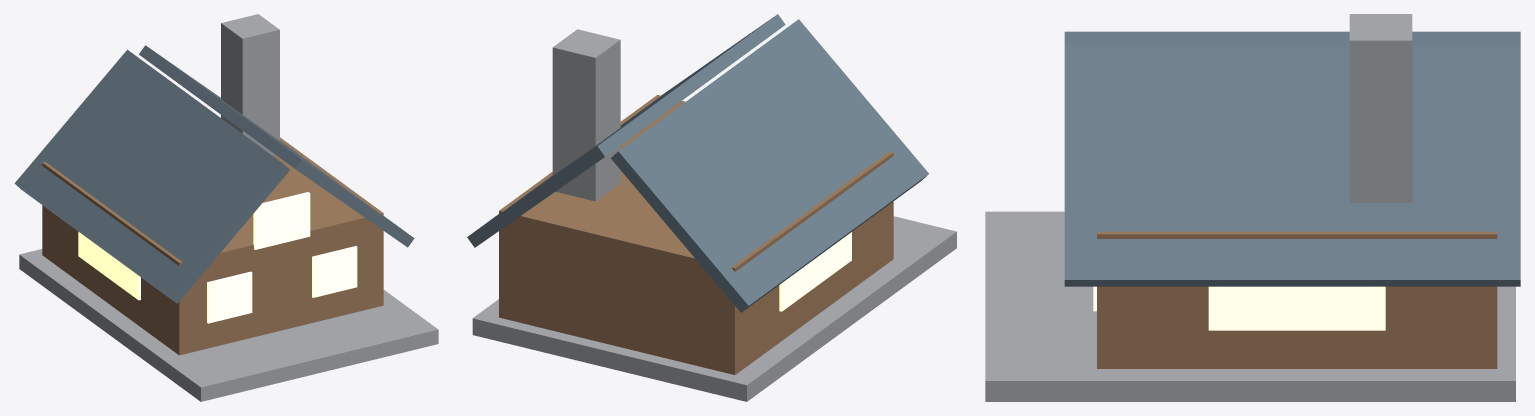
File: alpine_cabin.glb
The picture shows the model from 3 angles, left to right: view 1: azimuth 30°, elevation 25°; view 2: azimuth 150°, elevation 25°; view 3: azimuth 270°, elevation 25°; orthographic projection. The views are drawn at different scales.
Parts seen in each view (by area): view 1: RoofL, CabinBody, PorchBase, Chimney, RoofR, WinLoft, WinFrontL, WinFrontR, WinSideL; view 2: RoofL, CabinBody, PorchBase, Chimney, RoofR, WinSideL; view 3: RoofR, PorchBase, CabinBody, Chimney, WinSideR, RoofL.
Part boxes in pixels (x1,y1,x2,y2): RoofL: (14, 49, 289, 303); CabinBody: (42, 137, 383, 355); PorchBase: (19, 249, 438, 401); Chimney: (221, 14, 279, 155); RoofR: (139, 45, 414, 247); WinLoft: (253, 192, 310, 249); WinFrontL: (207, 271, 252, 323); WinFrontR: (312, 246, 357, 297); WinSideL: (78, 231, 140, 300); RoofL: (610, 19, 928, 312); CabinBody: (499, 95, 893, 374); PorchBase: (472, 216, 956, 401); Chimney: (552, 29, 620, 201); RoofR: (467, 14, 785, 247); WinSideL: (779, 232, 851, 311); RoofR: (1064, 44, 1520, 286); PorchBase: (985, 211, 1515, 401); CabinBody: (1097, 231, 1497, 368); Chimney: (1349, 14, 1412, 202); WinSideR: (1208, 286, 1385, 330); RoofL: (1064, 31, 1520, 44).
Size of the model in its own units: 8.83 by 8 by 11.5.
